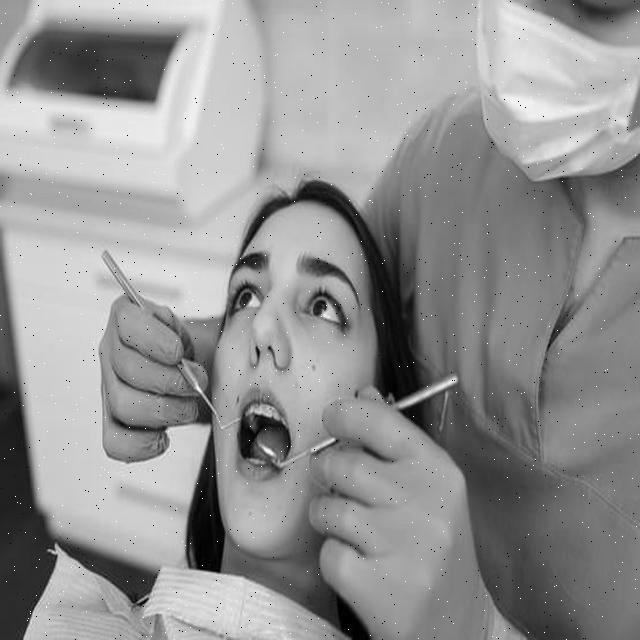Fear: (210, 198, 362, 554)
